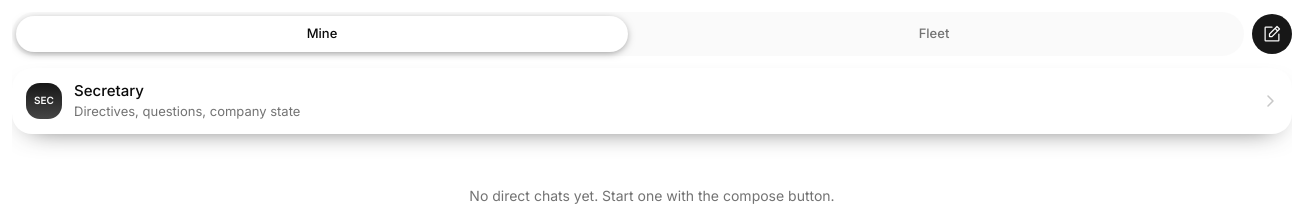
Test case: TgChatTab — threads › Fleet thread without a task link is watch-only
Step 1. Click the button "Fleet" → (934, 34), box left=628, top=16, right=1240, bottom=52
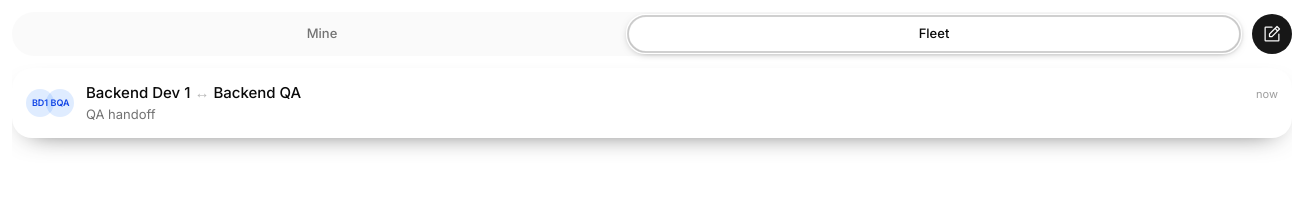
Step 2. Click the text "QA handoff" → (121, 114), box left=86, top=106, right=156, bottom=122
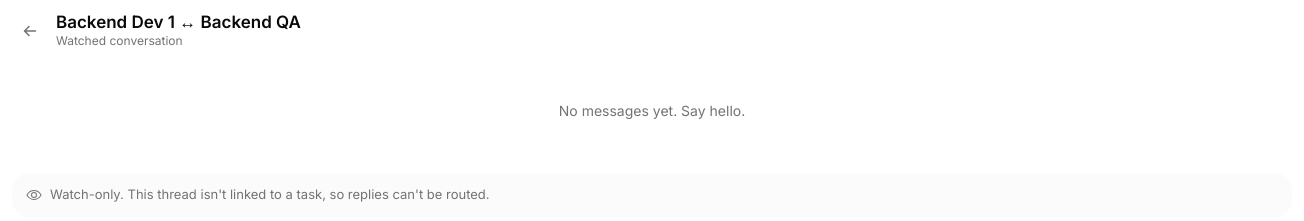
Now the text "Watch-only" is shown, box left=50, top=186, right=490, bottom=202
